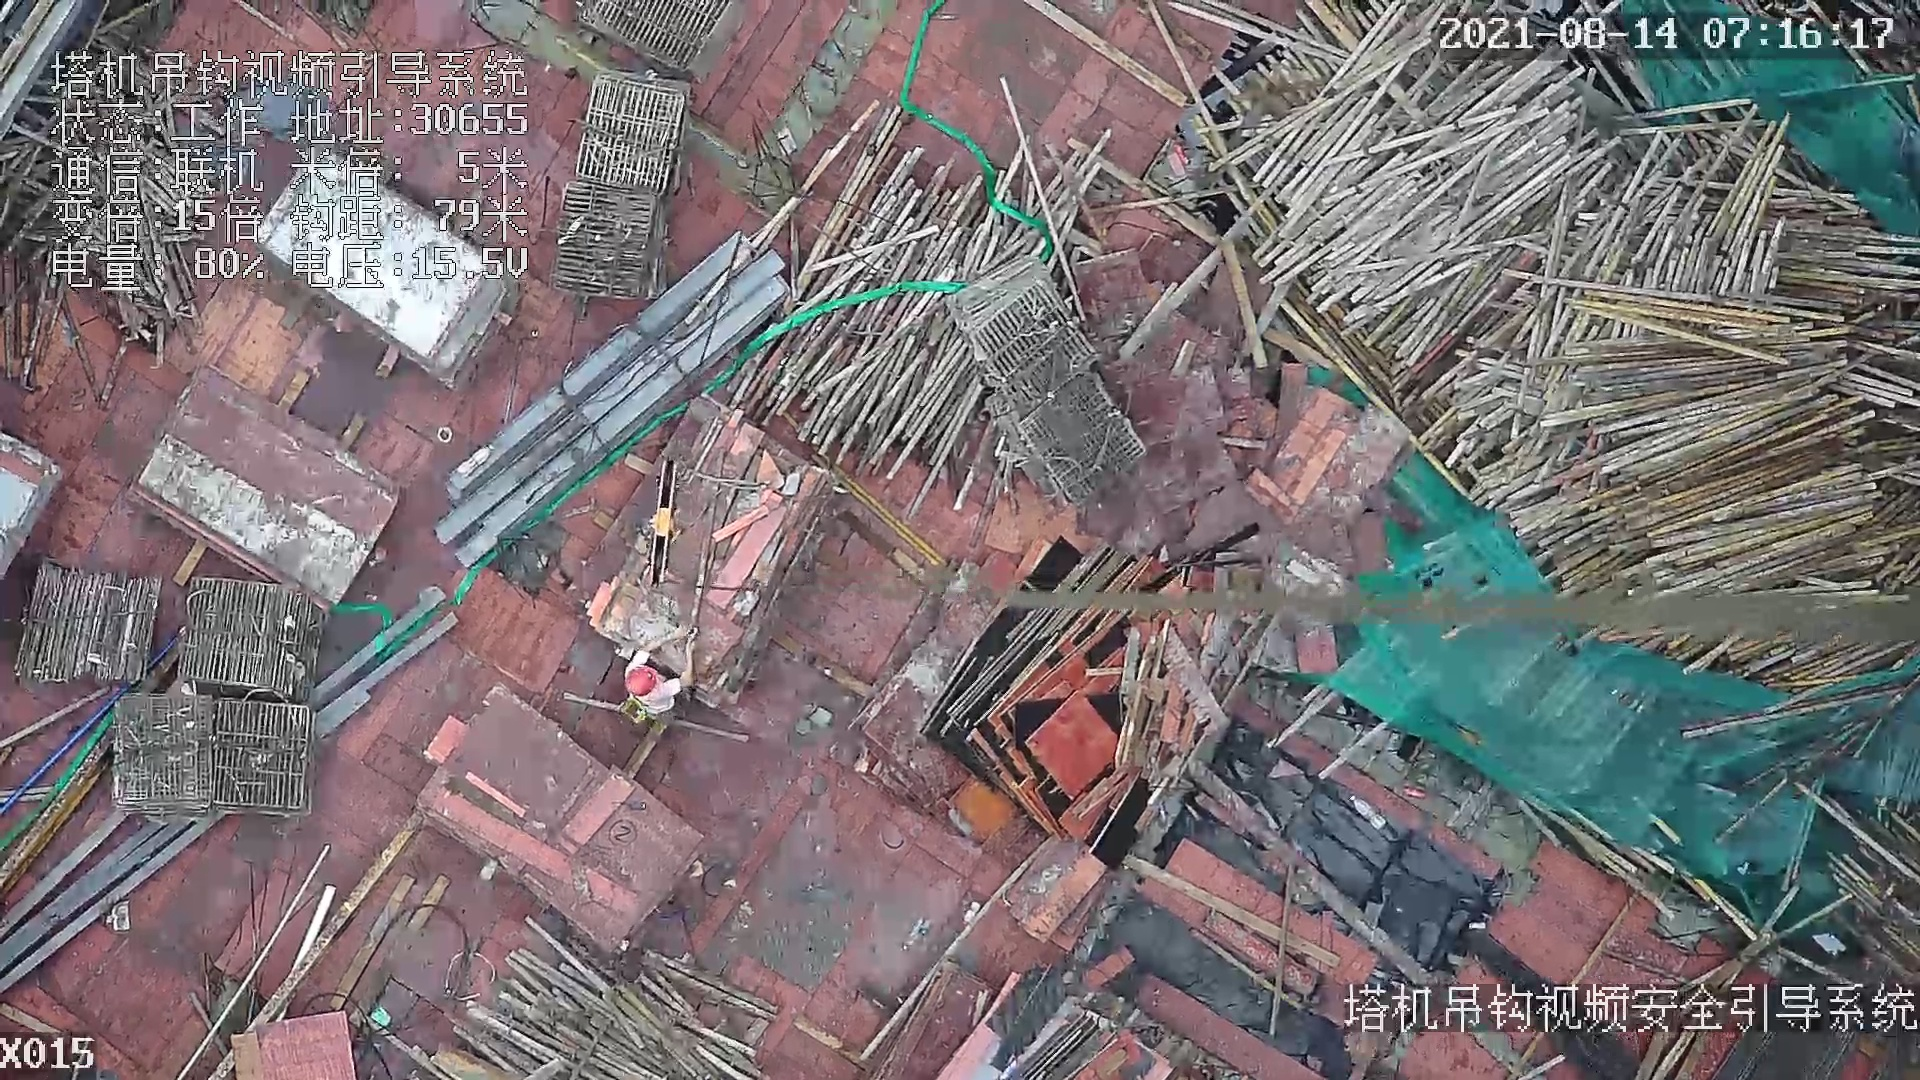helmet: (632, 663, 656, 698)
hook: (641, 459, 679, 587)
person: (629, 626, 701, 719)
